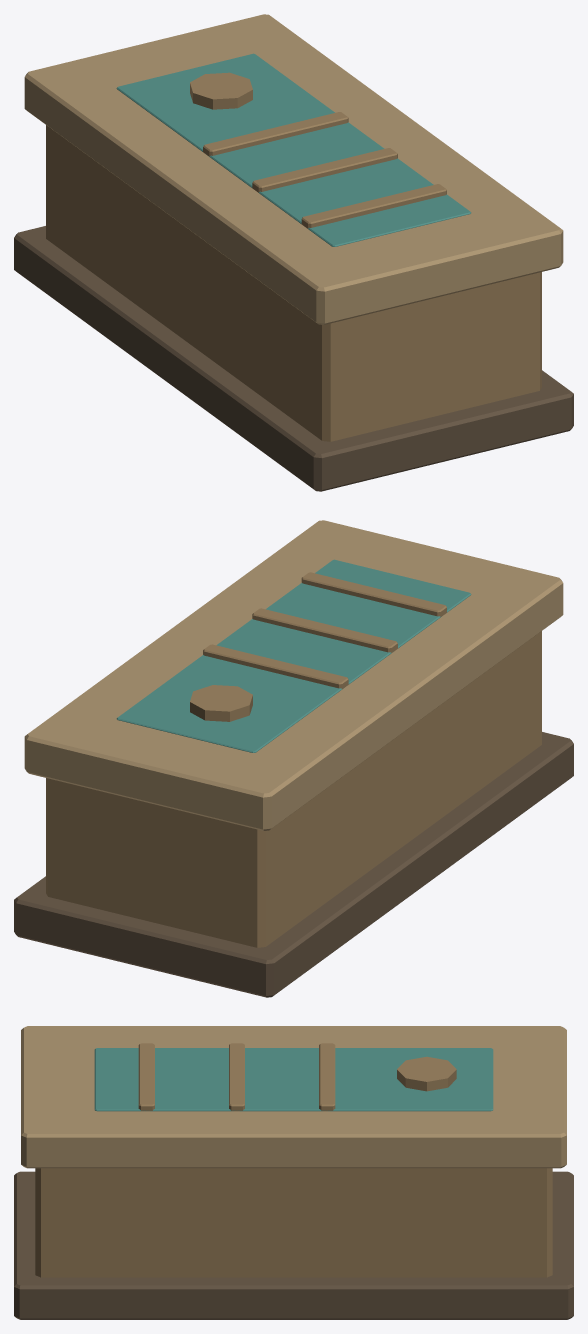
The model's file is fitted-sarcophagus.glb.
3 renders of one model, top to bottom at view 1: azimuth 30°, elevation 25°; view 2: azimuth 150°, elevation 25°; view 3: azimuth 270°, elevation 25°, orthographic. The views are drawn at different scales.
Visible parts, largest first — view 1: fitted-sarcophagus__body; view 2: fitted-sarcophagus__body; view 3: fitted-sarcophagus__body.
Boxes of the visible parts, x1,y1,x2,y2 form: fitted-sarcophagus__body: (14,14,573,491); fitted-sarcophagus__body: (14,520,573,997); fitted-sarcophagus__body: (14,1026,573,1319).
Size of the model in its own units: 0.58 by 0.45 by 1.18.
